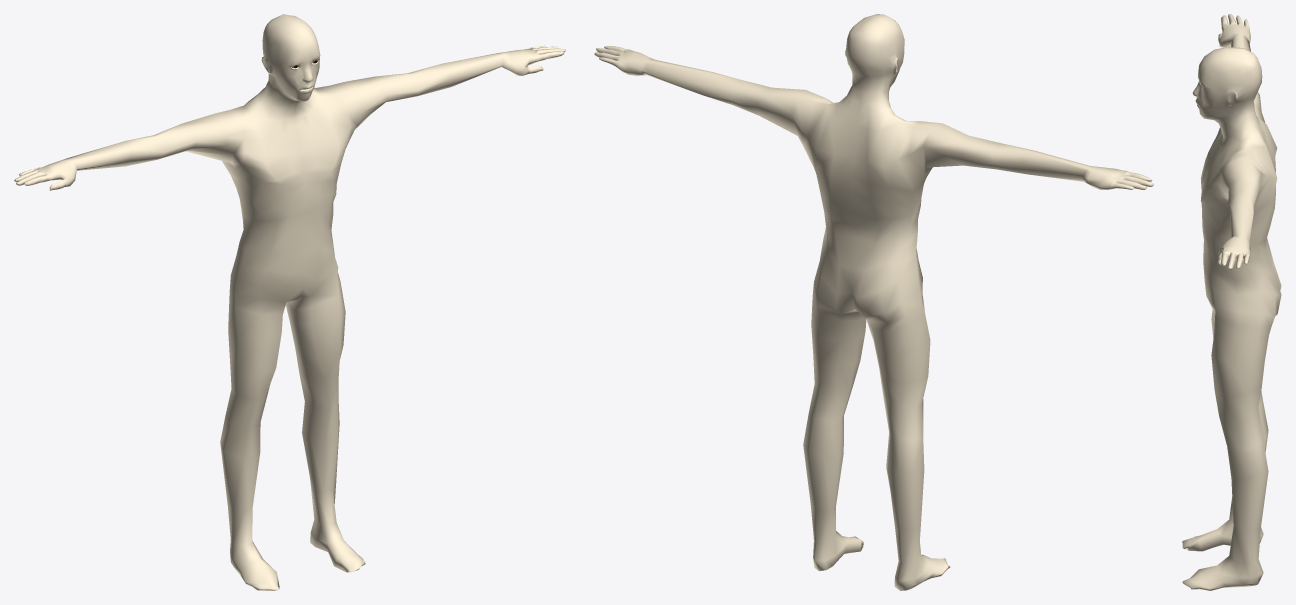
File: Coronel_Mota_SemOsso.fbx
3 views of the same model, side by side, from view 1: azimuth 30°, elevation 25°; view 2: azimuth 150°, elevation 25°; view 3: azimuth 270°, elevation 25° (orthographic). The views are drawn at different scales.
Visible parts, largest first — view 1: male1591Mesh; view 2: male1591Mesh; view 3: male1591Mesh.
Boxes of the visible parts, <box> form: male1591Mesh: <box>14,14,565,590</box>; male1591Mesh: <box>594,14,1153,590</box>; male1591Mesh: <box>1182,14,1281,590</box>.
Size of the model in its own units: 71.06 by 67.4 by 11.7.
